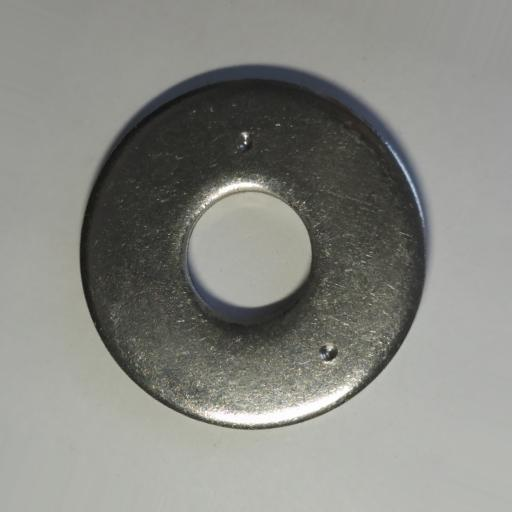circular_cavity: (319, 344, 338, 362), (237, 131, 253, 149)
